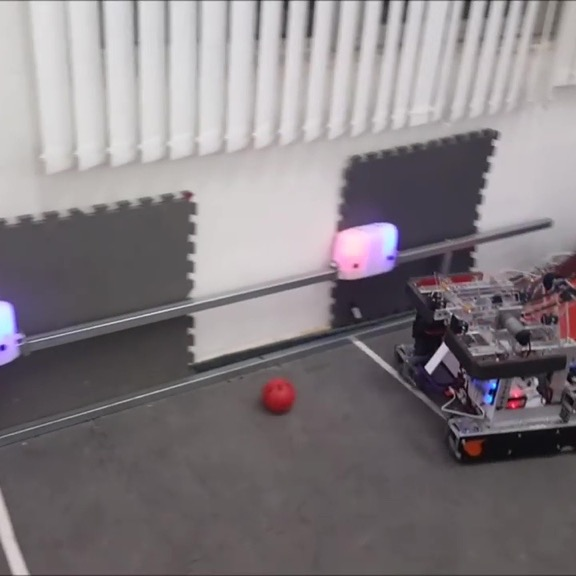redball: (257, 375, 301, 414)
robot: (392, 244, 576, 466)
